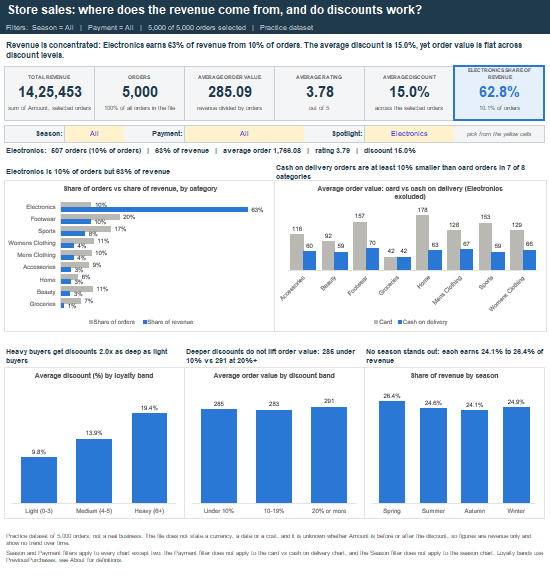

This screenshot's page, from the dashboard's own definition file:
{"tool":"powerbi","page":{"name":"Page 1","canvas":[1920,1080],"ordinal":0},"visuals":[{"type":"cardVisual","fields":{"Data":["Sum(store_orders.Amount)","Sum(store_orders.Orders)","Avg(store_orders.Discount %)","Avg(store_orders.Amount)","Avg(store_orders.Rating)","store_orders.Electronics revenue share"]},"box":[30.8,12.7,1869.8,201.9],"z":0},{"type":"slicer","fields":{"Values":["store_orders.Season"]},"box":[25.3,222.6,634,111.3],"z":1},{"type":"slicer","fields":{"Values":["store_orders.Payment Method"]},"box":[658.7,224.4,617,111.3],"z":2},{"type":"slicer","fields":{"Values":["store_orders.Category"]},"box":[1275.8,226.2,618.9,111.3],"z":3},{"type":"clusteredBarChart","fields":{"Category":["store_orders.Category"],"Y":["store_orders.Revenue share","store_orders.Orders share"]},"box":[25.3,300.4,917,413.2],"z":4},{"type":"clusteredColumnChart","fields":{"Category":["store_orders.Category"],"Series":["store_orders.Payment Method"],"Y":["Avg(store_orders.Amount)"]},"box":[973.6,300.4,926.5,412.6],"z":5},{"type":"clusteredColumnChart","fields":{"Category":["store_orders.Loyalty Band"],"Y":["Avg(store_orders.Discount %)"]},"box":[76,713,532,367.4],"z":6},{"type":"clusteredColumnChart","fields":{"Category":["store_orders.Discount Band"],"Y":["Avg(store_orders.Amount)"]},"box":[658.7,713,548.3,367.4],"z":7},{"type":"clusteredColumnChart","fields":{"Category":["store_orders.Season"],"Y":["Sum(store_orders.Amount)"]},"box":[1245,713,655.1,367.4],"z":8}]}

Visuals, with their boxes on the page's 1920x1080 design canvas (x1, y1, x2, y2). These are canvas units, not pixel positions in the 550x577 screenshot, which may show the page scaled, cropped or inside an application window:
cardVisual - Sum(store_orders.Amount) x Sum(store_orders.Orders): [left=31, top=13, right=1901, bottom=215]
slicer - store_orders.Season: [left=25, top=223, right=659, bottom=334]
slicer - store_orders.Payment Method: [left=659, top=224, right=1276, bottom=336]
slicer - store_orders.Category: [left=1276, top=226, right=1895, bottom=338]
clusteredBarChart - store_orders.Category x store_orders.Revenue share: [left=25, top=300, right=942, bottom=714]
clusteredColumnChart - store_orders.Category x store_orders.Payment Method: [left=974, top=300, right=1900, bottom=713]
clusteredColumnChart - store_orders.Loyalty Band x Avg(store_orders.Discount %): [left=76, top=713, right=608, bottom=1080]
clusteredColumnChart - store_orders.Discount Band x Avg(store_orders.Amount): [left=659, top=713, right=1207, bottom=1080]
clusteredColumnChart - store_orders.Season x Sum(store_orders.Amount): [left=1245, top=713, right=1900, bottom=1080]
